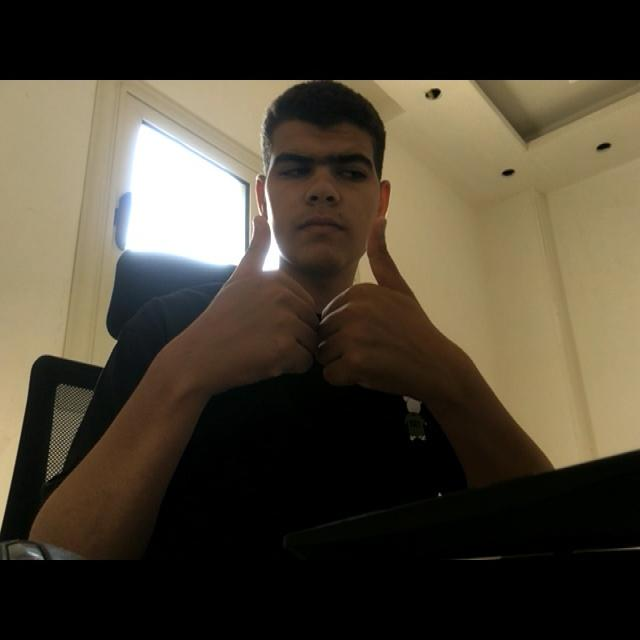Hello-ptrO: (182, 190, 470, 402)
